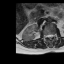CCS_normal: (49, 32, 51, 41)
LFS_normal: (53, 32, 55, 38)
LLS_normal: (51, 32, 53, 40)
RFS_normal: (45, 33, 47, 39)
RLS_normal: (47, 32, 49, 40)
